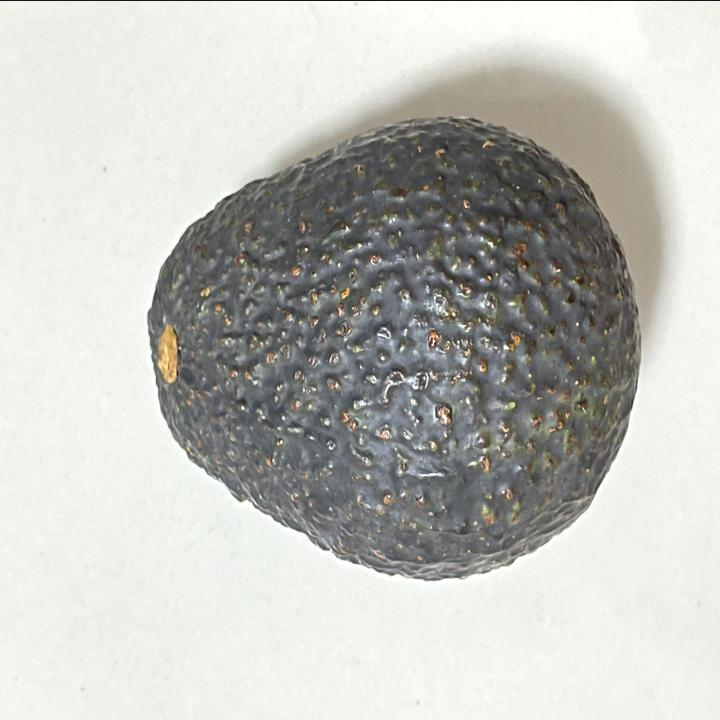Level1: (128, 81, 658, 612)
